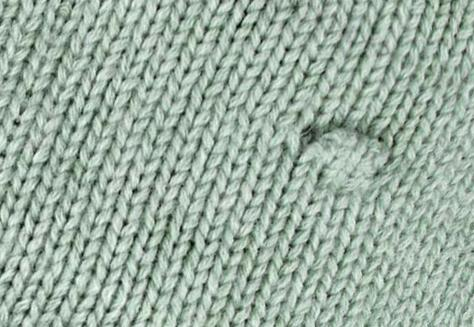knot: (295, 124, 392, 191)
